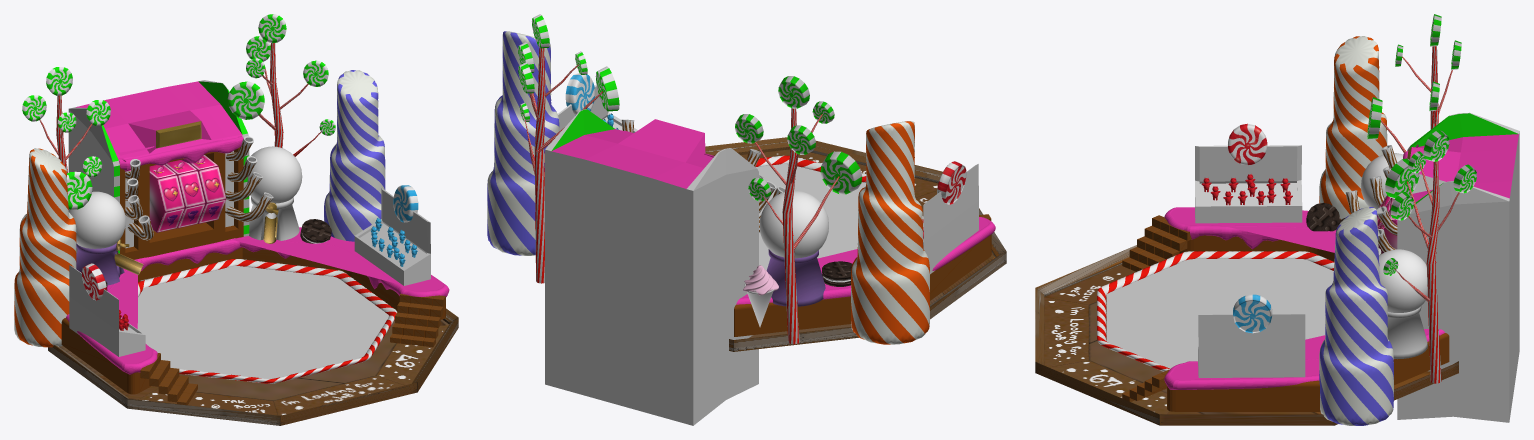
The model's file is arena3.fbx.
3 renders of one model, left to right at view 1: azimuth 30°, elevation 25°; view 2: azimuth 150°, elevation 25°; view 3: azimuth 270°, elevation 25°, orthographic. The views are drawn at different scales.
Parts seen in each view (by area): view 1: Arena_spodok, Arcade, Podklad, Cylinder.007, Cylinder.006, Tortus_polevus, Strom.001, Cube.002, Cube.001, Strom, Arena_outline, Tortus_korpus (+17 smaller); view 2: Arcade, Cylinder.007, Cylinder.006, Strom, Podklad, Strom.001, Tortus_korpus, Arena_spodok, Cube.003, Sphere.017, Cylinder.010, Tortus_polevus (+6 smaller); view 3: Arcade, Arena_spodok, Podklad, Cylinder.006, Cylinder.007, Cube.003, Tortus_korpus, Cube.001, Tortus_polevus, Strom.001, Arena_outline, Cube.002 (+8 smaller).
Boxes of the visible parts, left/top/right/bottom form: Arena_spodok: left=137, top=266, right=388, bottom=378; Arcade: left=68, top=80, right=249, bottom=280; Podklad: left=48, top=296, right=458, bottom=425; Cylinder.007: left=14, top=148, right=76, bottom=347; Cylinder.006: left=324, top=70, right=385, bottom=241; Tortus_polevus: left=66, top=227, right=449, bottom=374; Strom.001: left=227, top=14, right=335, bottom=156; Cube.002: left=140, top=293, right=445, bottom=405; Cube.001: left=354, top=188, right=430, bottom=285; Strom: left=22, top=67, right=110, bottom=209; Arena_outline: left=138, top=259, right=397, bottom=383; Tortus_korpus: left=61, top=247, right=445, bottom=394; Arcade: left=545, top=109, right=758, bottom=425; Cylinder.007: left=851, top=121, right=929, bottom=344; Cylinder.006: left=487, top=31, right=559, bottom=255; Strom: left=735, top=76, right=862, bottom=344; Podklad: left=705, top=137, right=1006, bottom=351; Strom.001: left=518, top=14, right=619, bottom=283; Tortus_korpus: left=734, top=234, right=991, bottom=336; Arena_spodok: left=755, top=164, right=866, bottom=270; Cube.003: left=923, top=164, right=978, bottom=274; Sphere.017: left=759, top=190, right=828, bottom=258; Cylinder.010: left=766, top=249, right=825, bottom=306; Tortus_polevus: left=736, top=217, right=995, bottom=304; Arcade: left=1397, top=112, right=1519, bottom=422; Arena_spodok: left=1106, top=259, right=1333, bottom=368; Podklad: left=1035, top=245, right=1458, bottom=425; Cylinder.006: left=1319, top=207, right=1393, bottom=425; Cylinder.007: left=1319, top=36, right=1387, bottom=219; Cube.003: left=1195, top=145, right=1302, bottom=223; Tortus_korpus: left=1167, top=235, right=1449, bottom=411; Cube.001: left=1198, top=314, right=1305, bottom=377; Tortus_polevus: left=1164, top=207, right=1444, bottom=389; Strom.001: left=1383, top=130, right=1476, bottom=383; Arena_outline: left=1097, top=251, right=1334, bottom=371; Cube.002: left=1122, top=215, right=1191, bottom=401.
Bounding box in the file's own units: 734 × 536 × 756.
